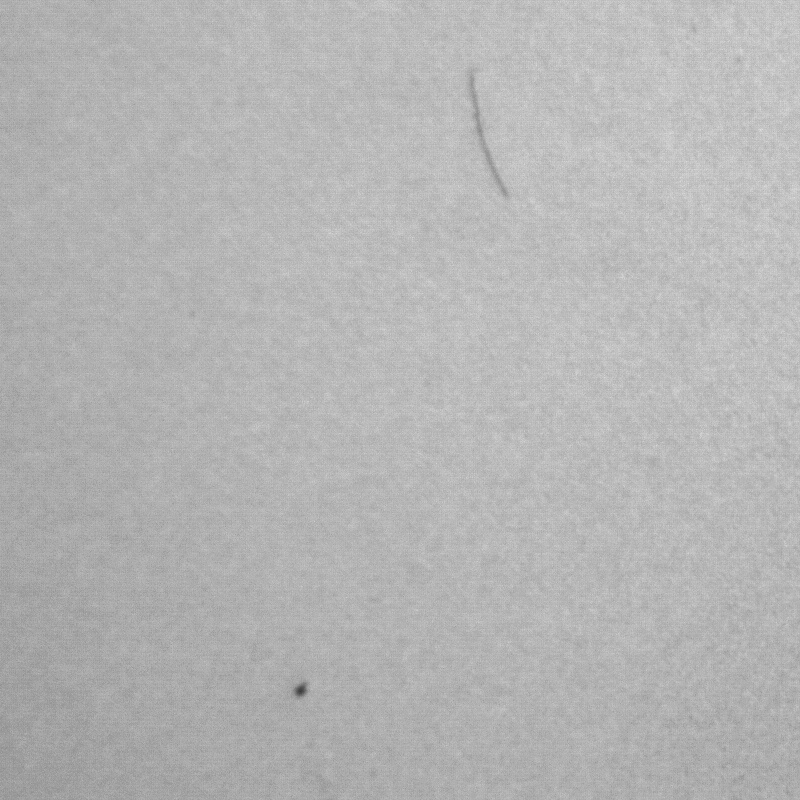defect: (471, 69, 516, 205), (290, 681, 310, 698)
